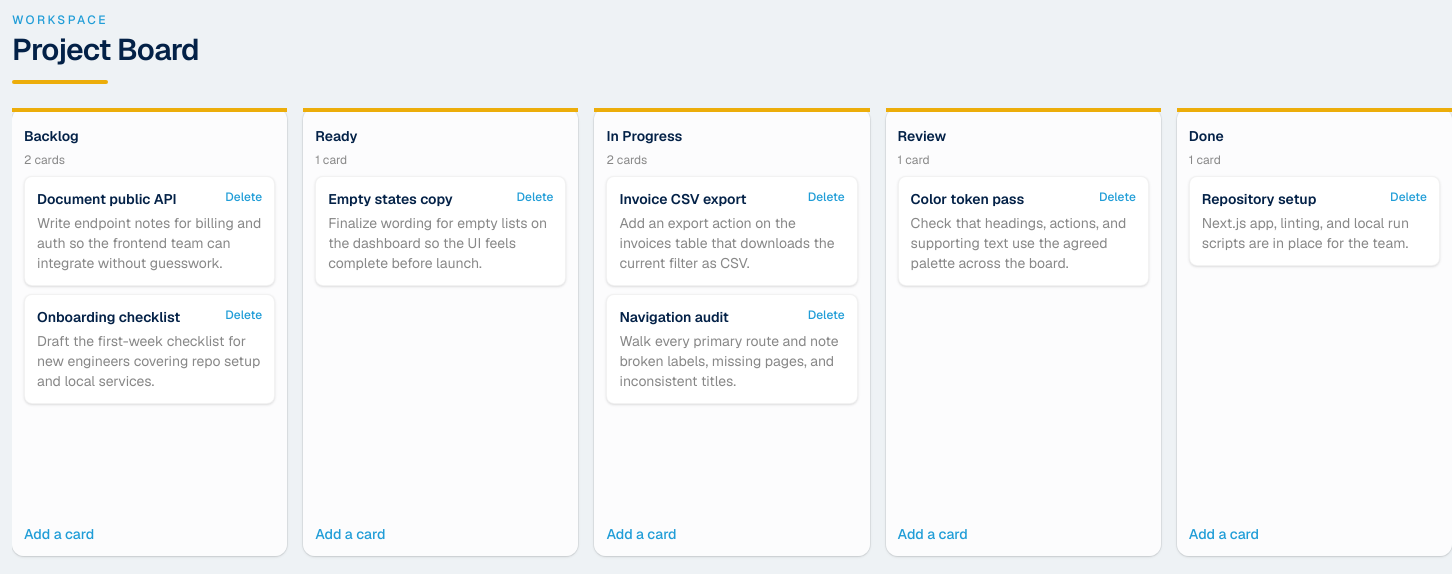
Scenario: Board › adds and deletes a card
This screenshot has width=1452, height=574.
Click the button with test id "add-card-toggle-col-done": [1314, 534] box [1189, 524, 1440, 544]
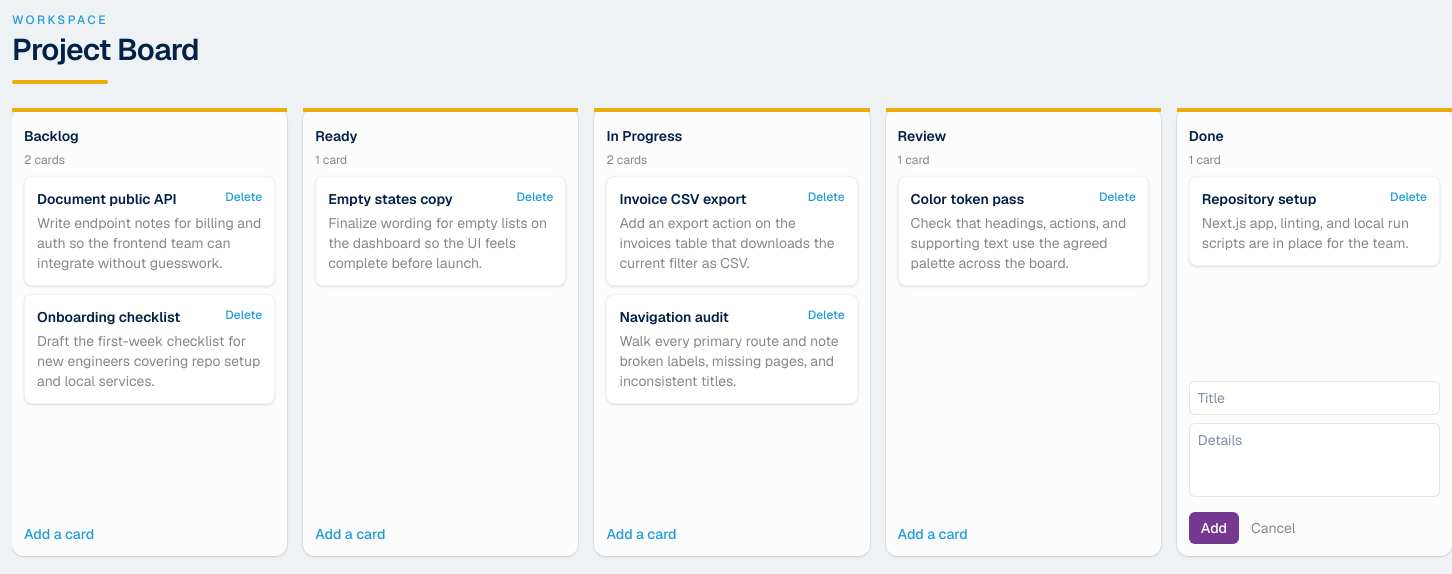
In the field with test id "add-card-title-col-done": [1314, 398] box [1189, 381, 1440, 415], type "Ship notes"
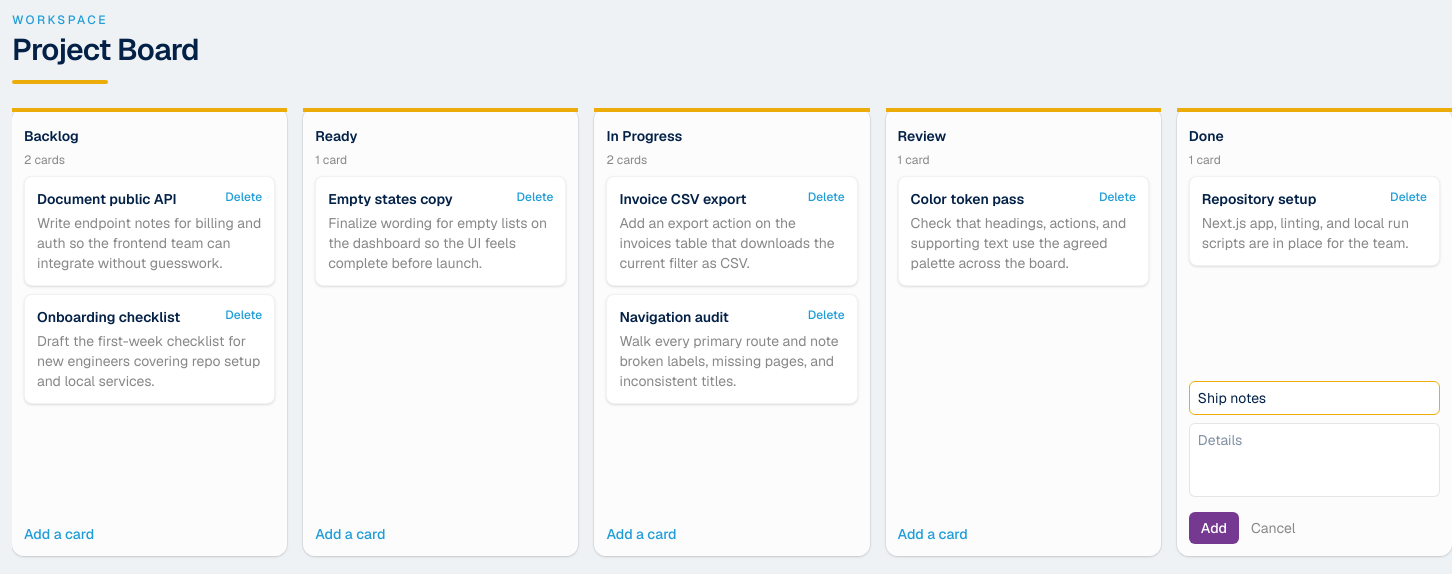
In the text box with test id "add-card-details-col-done": [1314, 460] box [1189, 423, 1440, 497], type "Write the launch changelog."
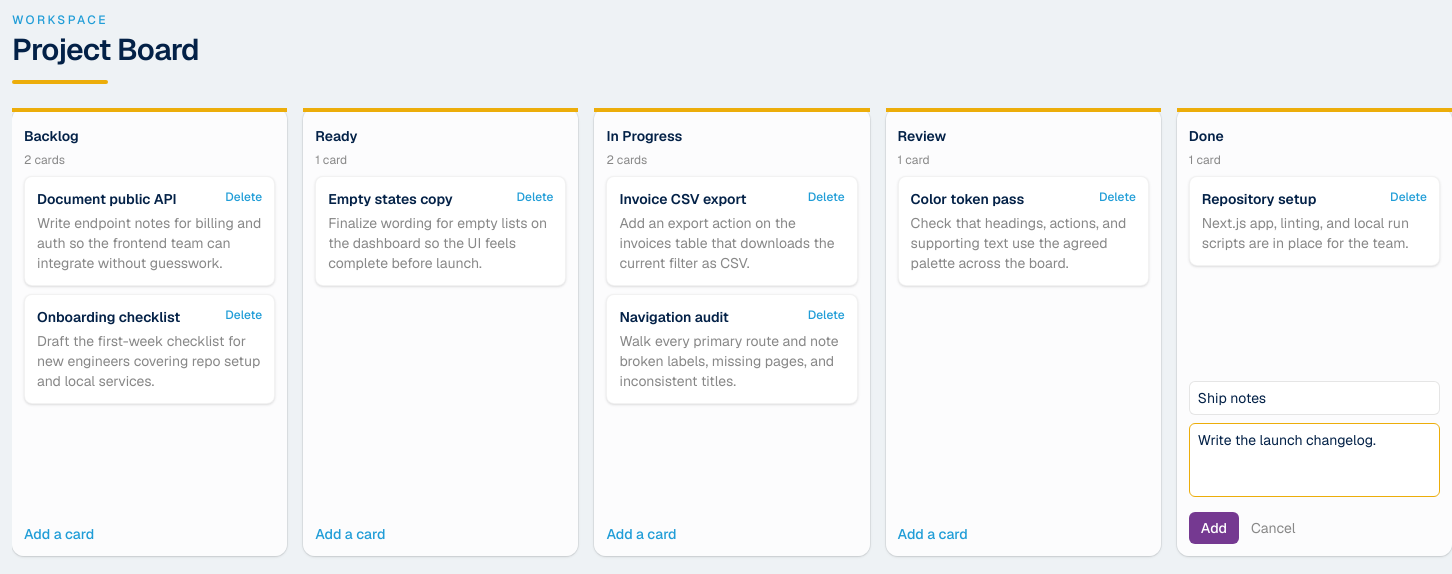
Click the button with test id "add-card-submit-col-done": [1214, 528] box [1189, 512, 1239, 544]
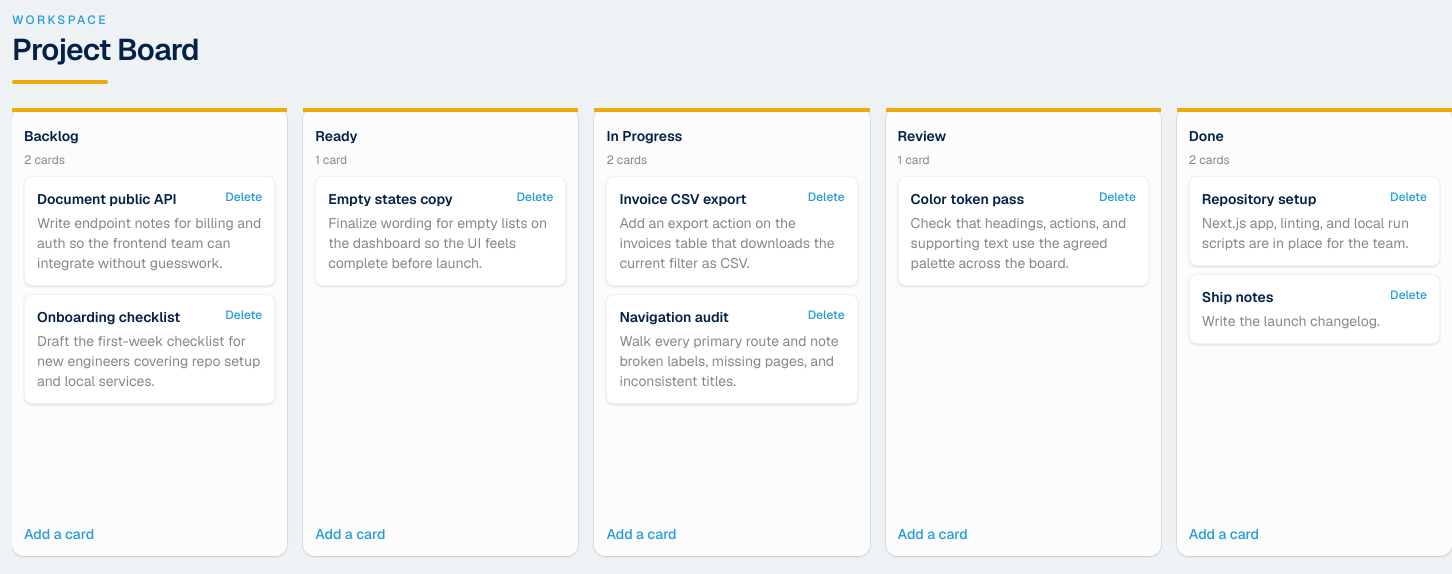
Result: the button "Ship notes" is shown at [1202, 287, 1273, 307]
Result: the text "Ship notes" is shown at [1202, 288, 1273, 306]
Click the 6th button "Delete": [1409, 295] box [1390, 287, 1427, 303]
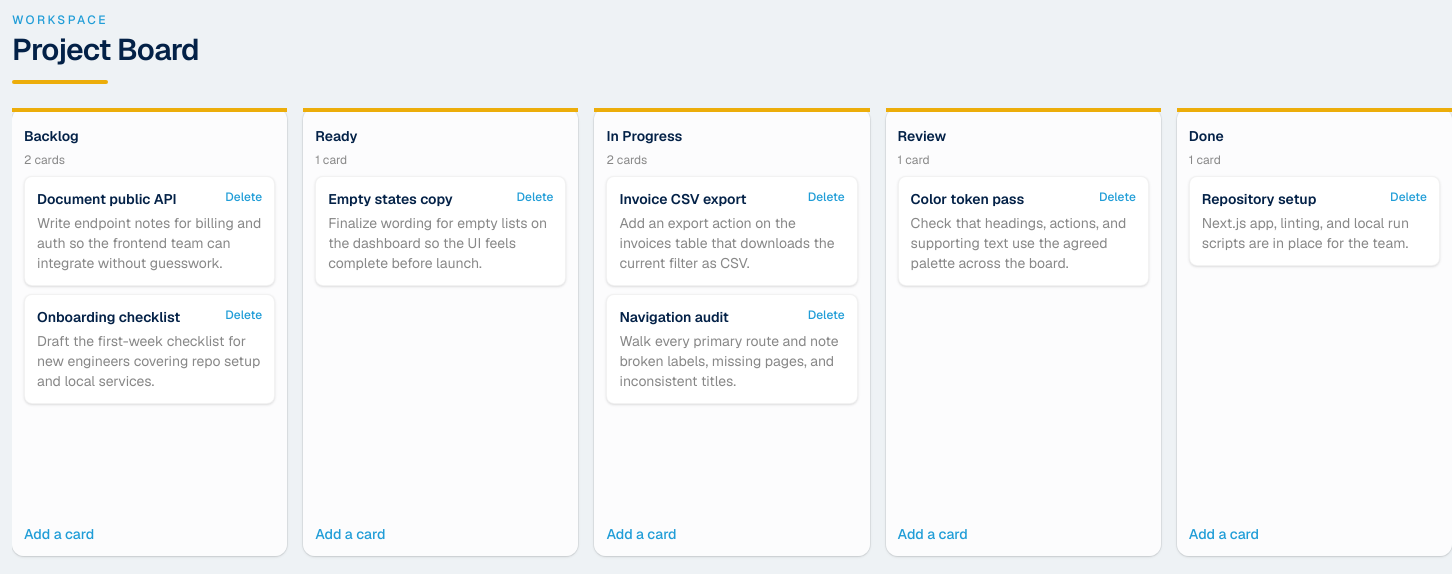
Result: the button "Ship notes" is gone
